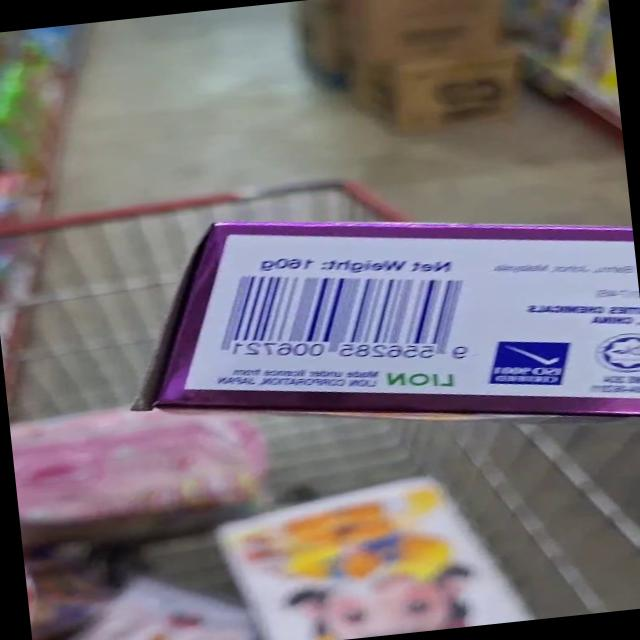Tisu: (203, 454, 549, 640)
Ubat Gigi: (75, 188, 640, 455)
